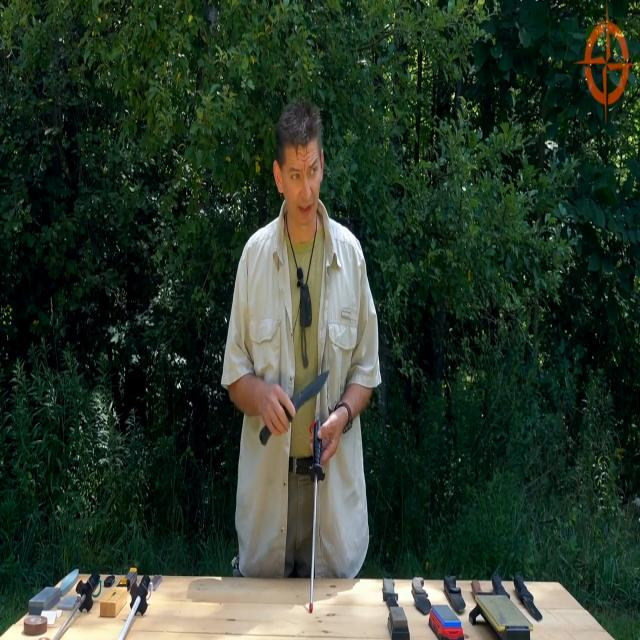knife: (291, 366, 333, 424), (513, 572, 547, 626), (443, 573, 469, 620), (411, 574, 432, 622)
